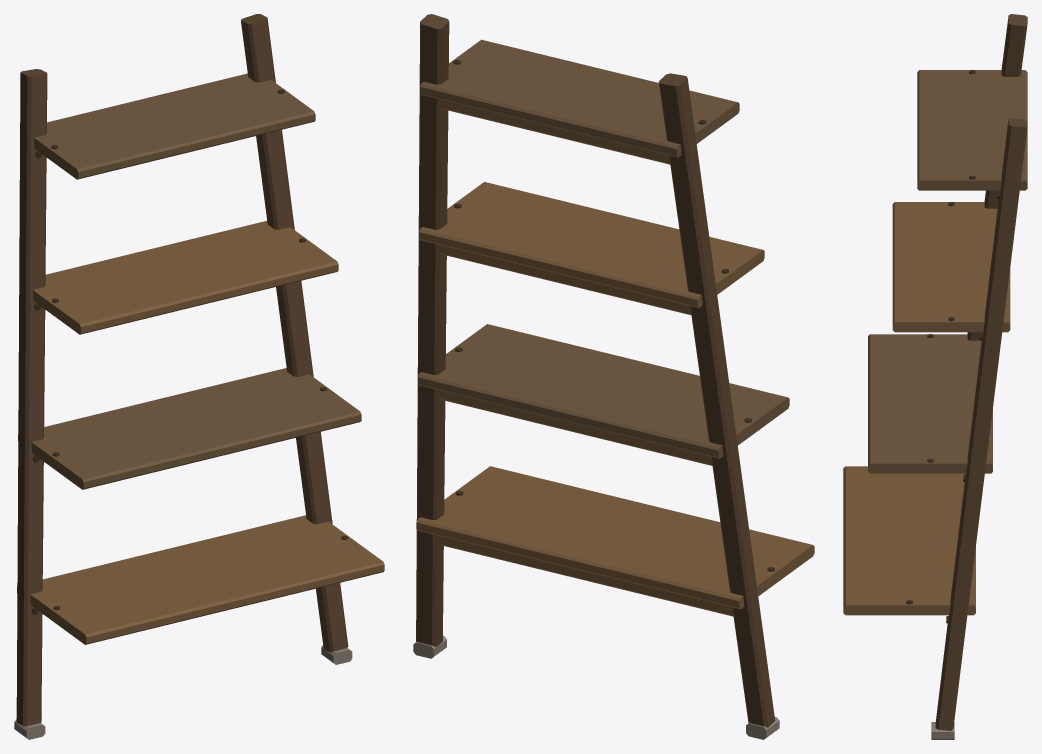
The model's file is SM_LPD_Furn_ShelfLadder_01.fbx.
3 renders of one model, left to right at view 1: azimuth 30°, elevation 25°; view 2: azimuth 150°, elevation 25°; view 3: azimuth 270°, elevation 25°, orthographic. The views are drawn at different scales.
Visible parts, largest first — view 1: SM_LPD_Furn_ShelfLadder_01; view 2: SM_LPD_Furn_ShelfLadder_01; view 3: SM_LPD_Furn_ShelfLadder_01.
Part boxes in pixels (x1,y1,x2,y2): SM_LPD_Furn_ShelfLadder_01: [14, 14, 384, 739]; SM_LPD_Furn_ShelfLadder_01: [413, 14, 814, 739]; SM_LPD_Furn_ShelfLadder_01: [843, 14, 1027, 739].
Size of the model in its own units: 0.976 by 1.78 by 0.5006.
